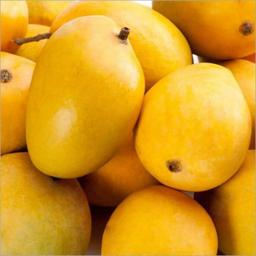Mango Fresh: (19, 10, 148, 184), (135, 44, 256, 223)
